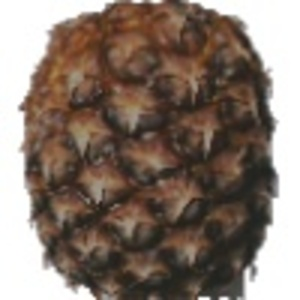abacaxi: (12, 4, 280, 295)
